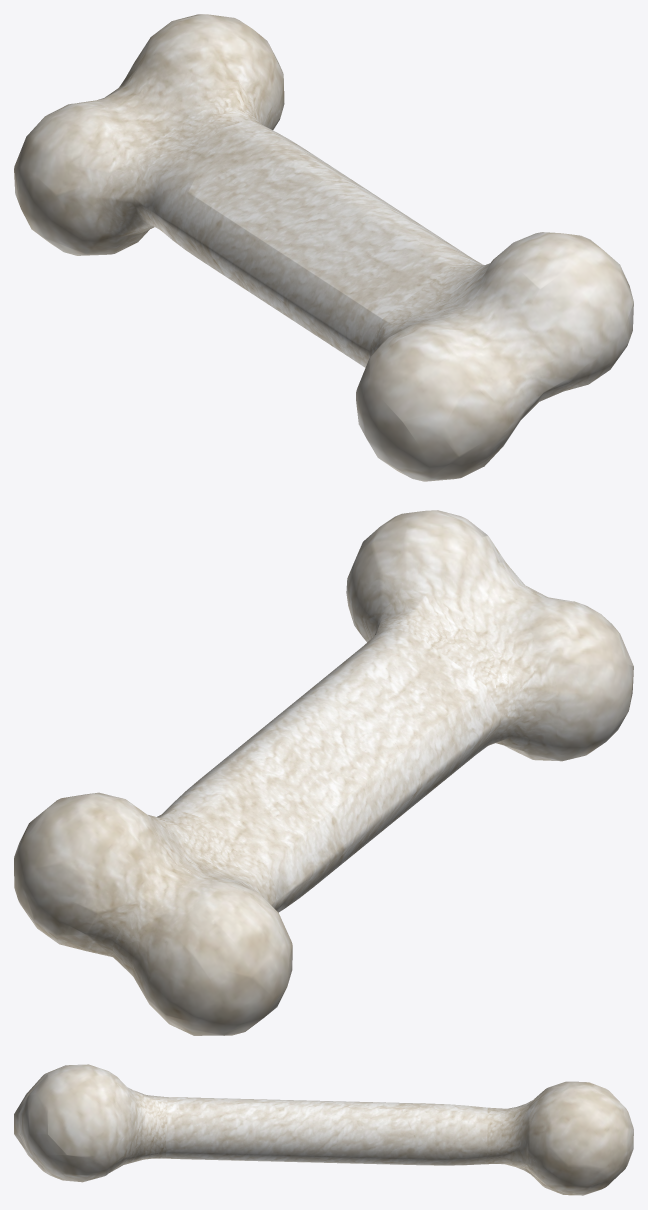
Rendered from bone.fbx.
The picture shows the model from 3 angles, top to bottom: view 1: azimuth 30°, elevation 25°; view 2: azimuth 150°, elevation 25°; view 3: azimuth 270°, elevation 25°; orthographic projection. The views are drawn at different scales.
Parts seen in each view (by area): view 1: Mball; view 2: Mball; view 3: Mball.
Part boxes in pixels (x1,y1,x2,y2): Mball: [14, 14, 633, 481]; Mball: [14, 510, 633, 1035]; Mball: [14, 1064, 633, 1195].
Bounding box in the file's own units: 201 × 166 × 562.
